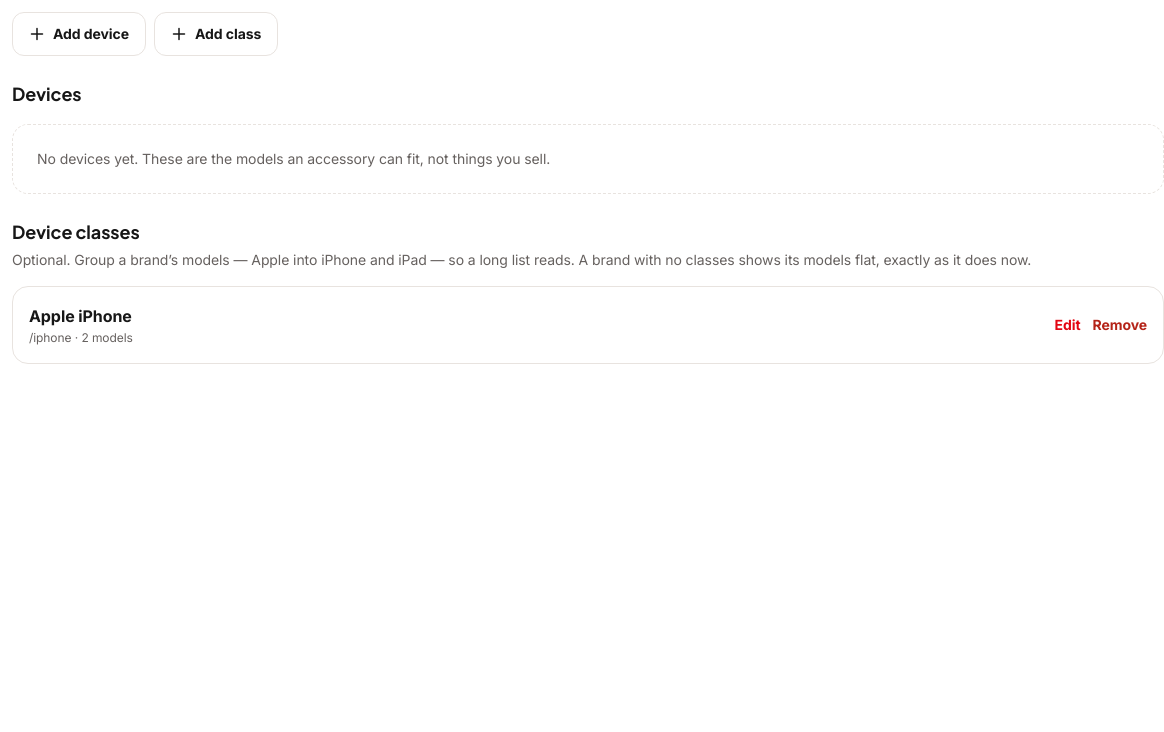
the devices screen › opens the new-class form at the top rather than below the device list
Click the button "Add class".
click(216, 34)  # box [154,12,278,56]
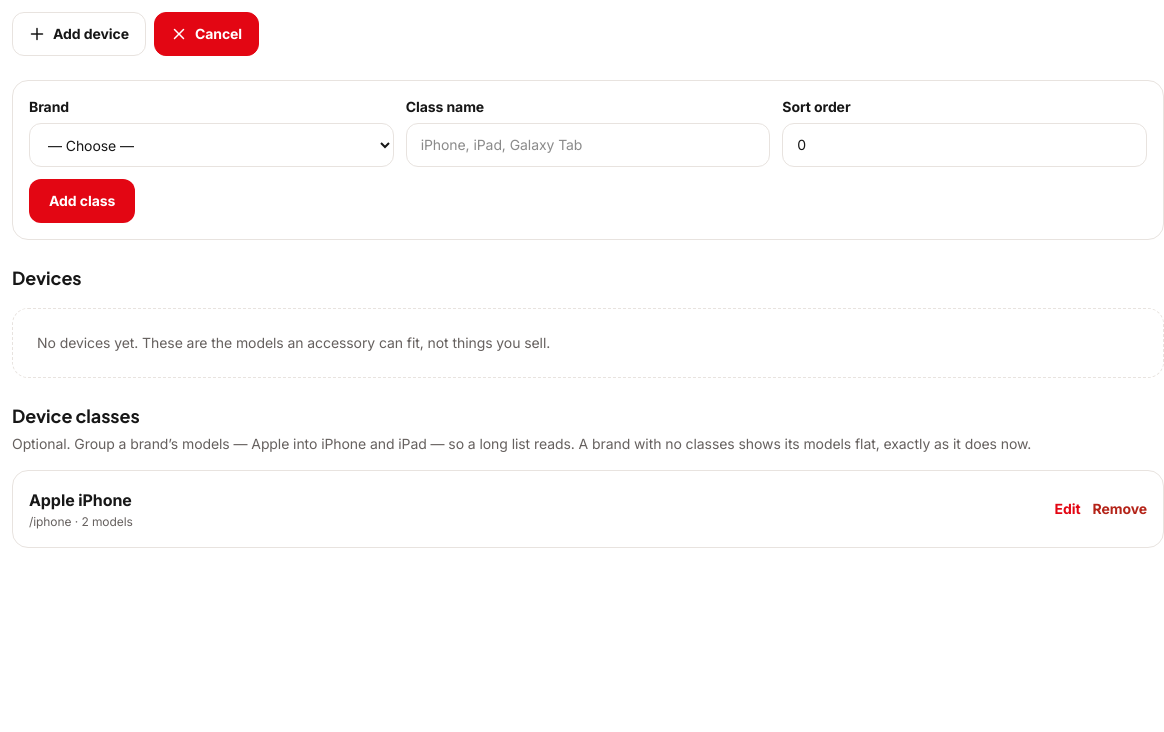
Now the form is shown, box [12,80,1163,240]
